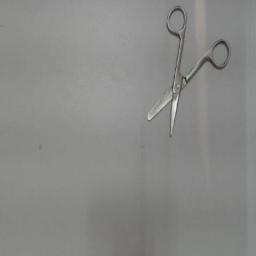Dressing Scissors: (140, 1, 236, 145)
